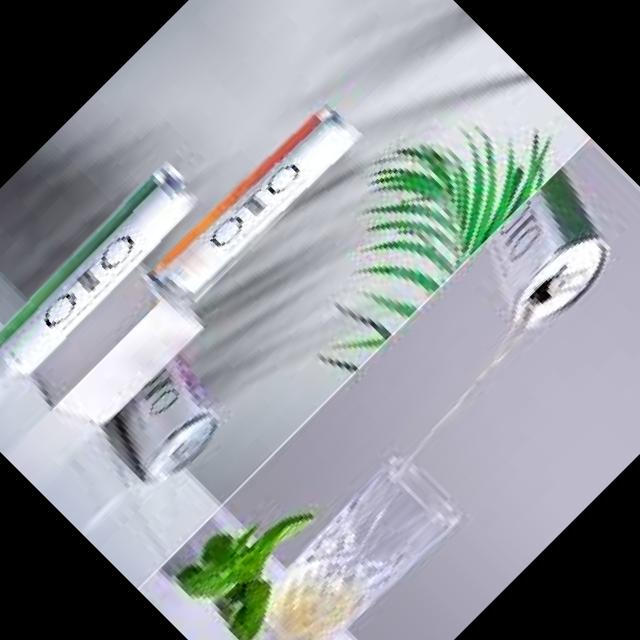Cans: (0, 150, 215, 396), (142, 94, 368, 320), (451, 157, 640, 354)
